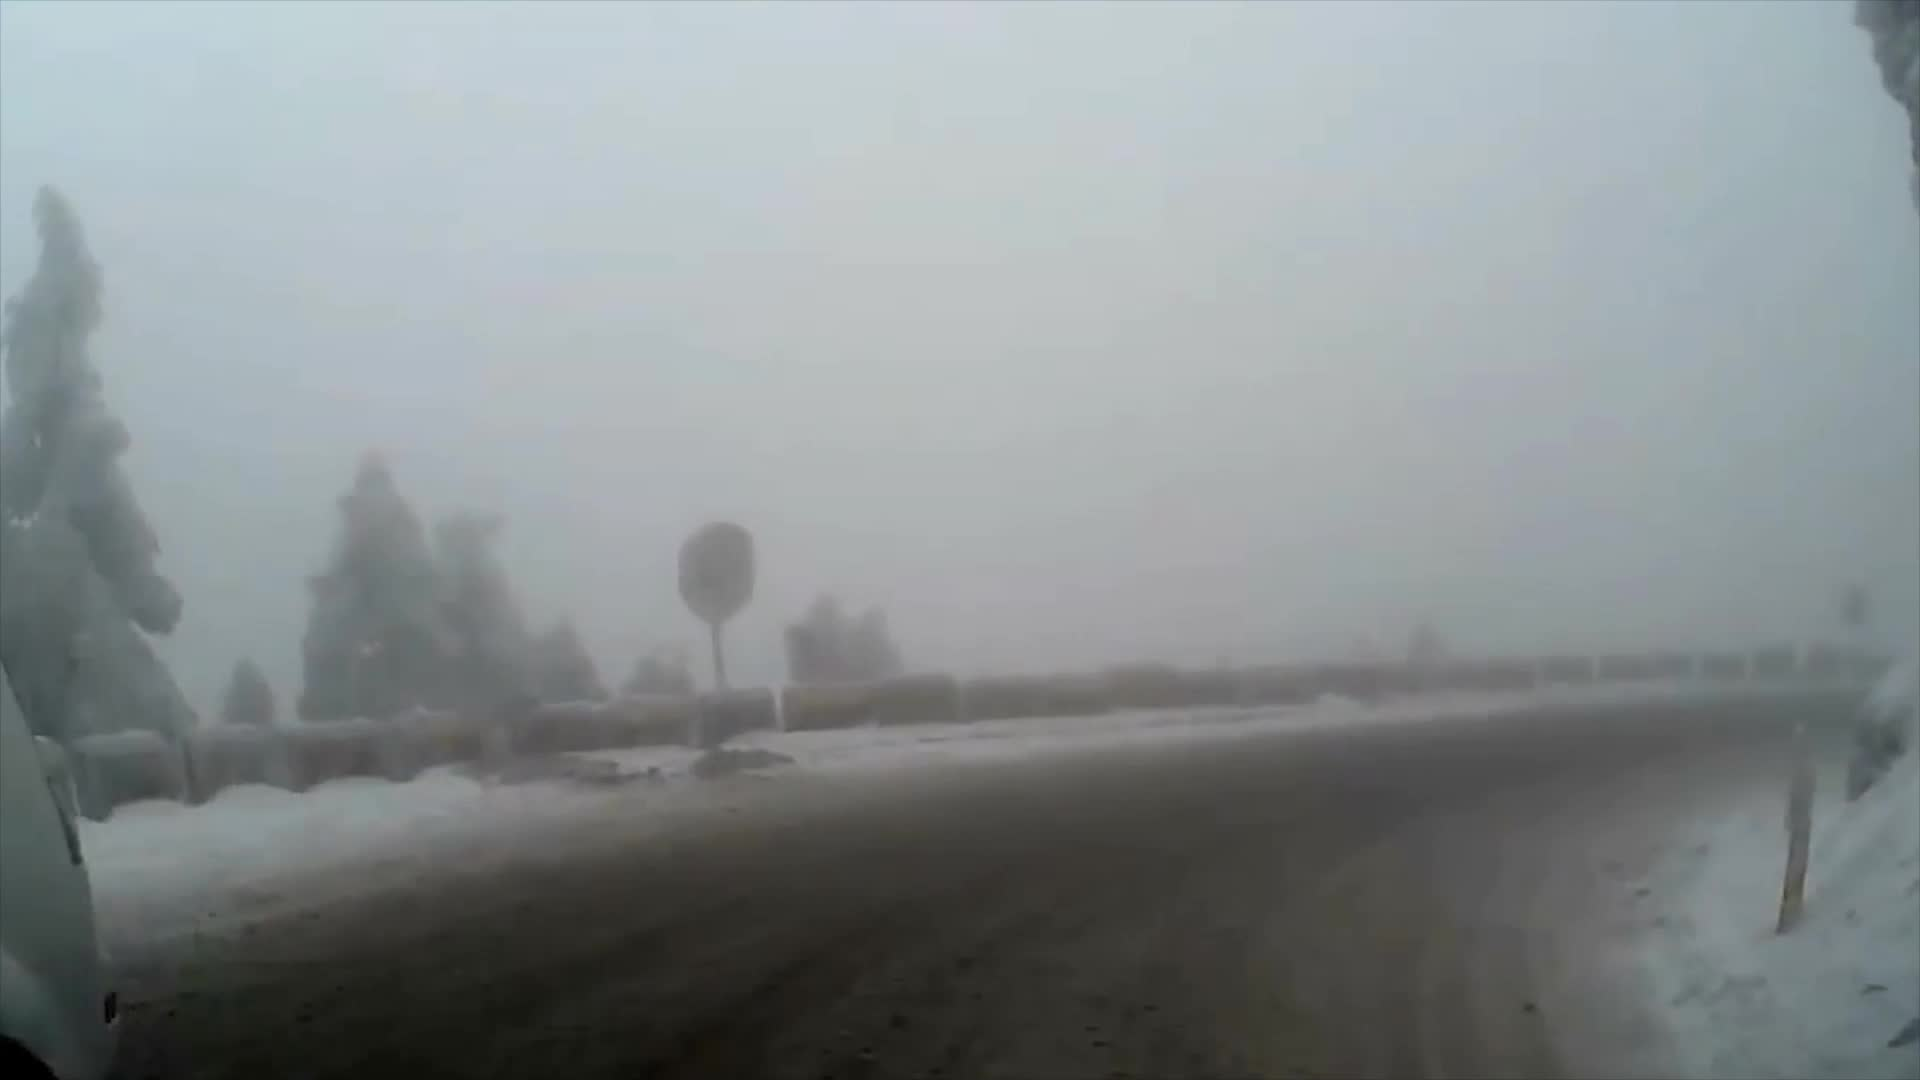vehicle: (0, 661, 123, 1079)
